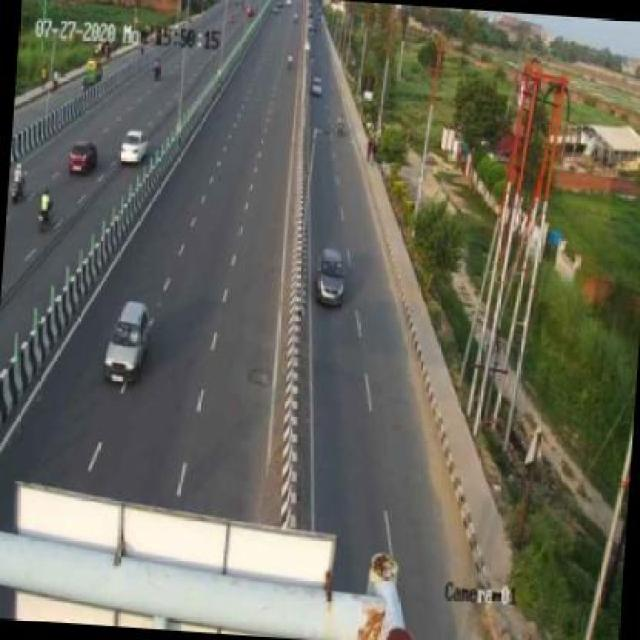car: (98, 294, 162, 388), (309, 243, 354, 309), (68, 140, 100, 177), (120, 131, 149, 166)
